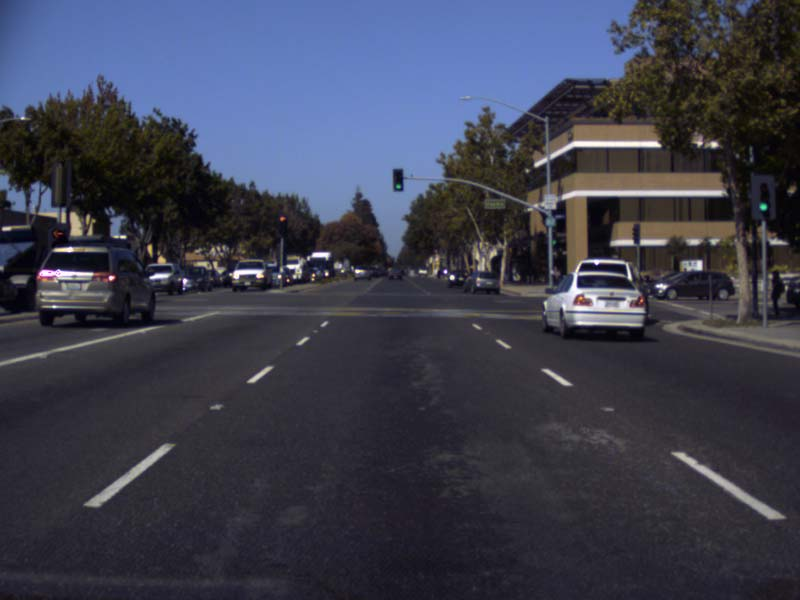Green: (758, 183, 770, 215), (392, 168, 403, 191), (550, 230, 556, 245)
Red: (47, 225, 68, 260), (278, 215, 287, 235)
